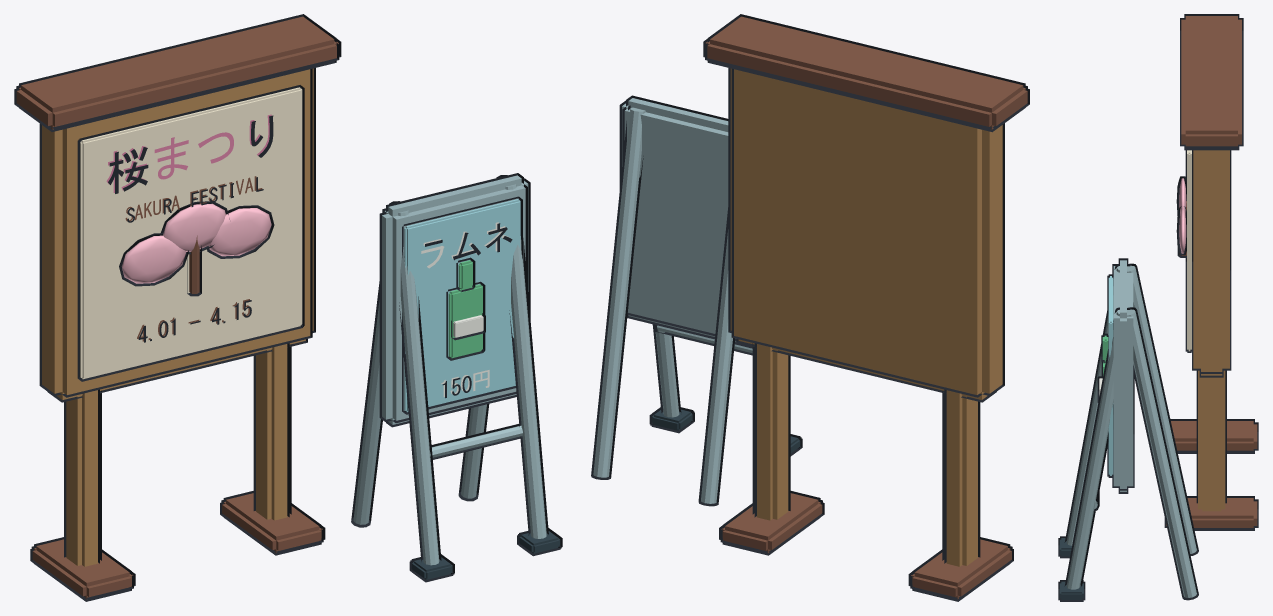
The model's file is Platform_Advertising.fbx.
3 views of the same model, side by side, from view 1: azimuth 30°, elevation 25°; view 2: azimuth 150°, elevation 25°; view 3: azimuth 270°, elevation 25° (orthographic). The views are drawn at different scales.
Parts seen in each view (by area): view 1: Advertisement_Wood_Large_Mesh, Advertisement_Metal_Small_Mesh, NPR_Outline_Advertisement_Wood_Large_Mesh, NPR_Outline_Advertisement_Metal_Small_Mesh; view 2: Advertisement_Wood_Large_Mesh, Advertisement_Metal_Small_Mesh, NPR_Outline_Advertisement_Wood_Large_Mesh, NPR_Outline_Advertisement_Metal_Small_Mesh; view 3: Advertisement_Wood_Large_Mesh, Advertisement_Metal_Small_Mesh, NPR_Outline_Advertisement_Metal_Small_Mesh, NPR_Outline_Advertisement_Wood_Large_Mesh.
Boxes of the visible parts, x1,y1,x2,y2 form: Advertisement_Wood_Large_Mesh: [16, 16, 338, 599]; Advertisement_Metal_Small_Mesh: [353, 175, 560, 579]; NPR_Outline_Advertisement_Wood_Large_Mesh: [14, 14, 341, 601]; NPR_Outline_Advertisement_Metal_Small_Mesh: [351, 173, 562, 582]; Advertisement_Wood_Large_Mesh: [705, 16, 1027, 599]; Advertisement_Metal_Small_Mesh: [593, 98, 800, 503]; NPR_Outline_Advertisement_Wood_Large_Mesh: [703, 14, 1029, 601]; NPR_Outline_Advertisement_Metal_Small_Mesh: [591, 95, 802, 506]; Advertisement_Wood_Large_Mesh: [1166, 16, 1257, 527]; Advertisement_Metal_Small_Mesh: [1059, 260, 1196, 599]; NPR_Outline_Advertisement_Metal_Small_Mesh: [1058, 258, 1198, 601]; NPR_Outline_Advertisement_Wood_Large_Mesh: [1164, 14, 1258, 530].
Bounding box in the file's own units: 140 × 150 × 65.92.
